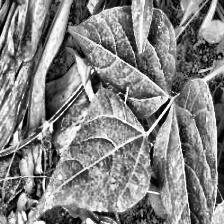Bean Rust: (28, 89, 146, 224), (64, 5, 174, 100), (163, 69, 219, 224)
